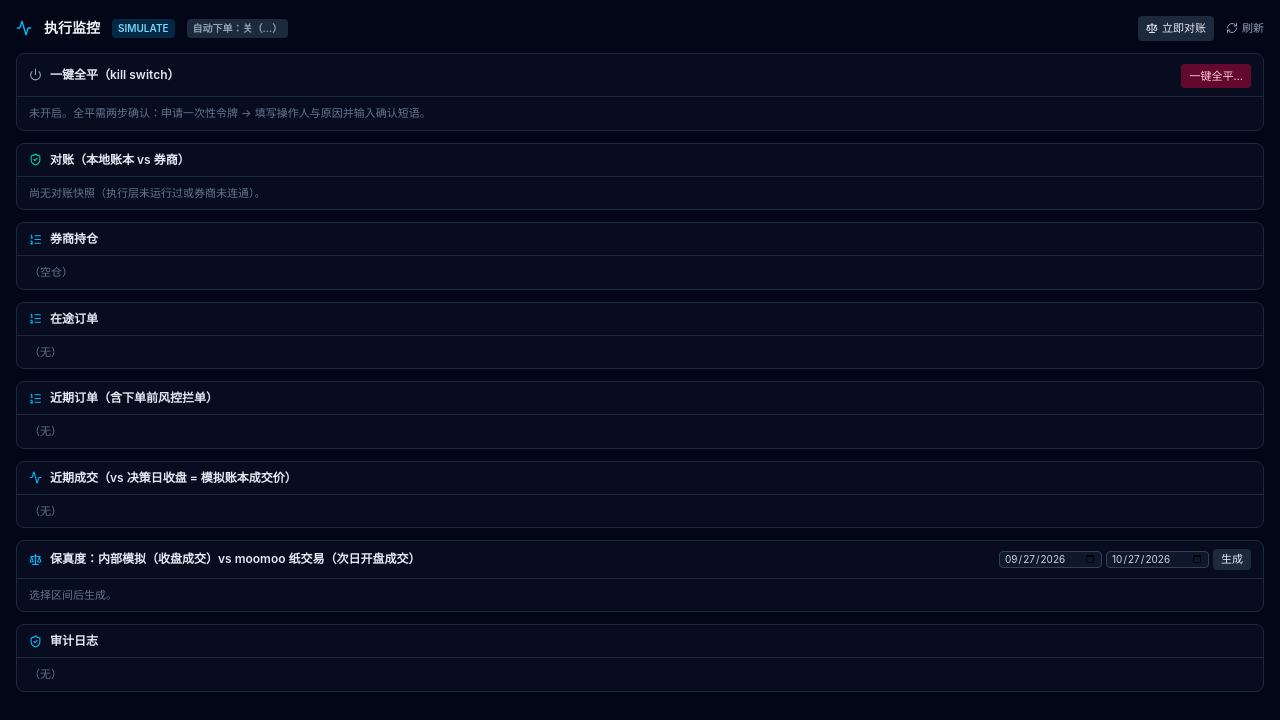
Scenario: ExecutionPanel — kill switch is two-step › opening the dialog only arms; confirm needs actor, reason and the phrase
Click the button "一键全平…" at point(1216, 76), box left=1182, top=64, right=1251, bottom=88
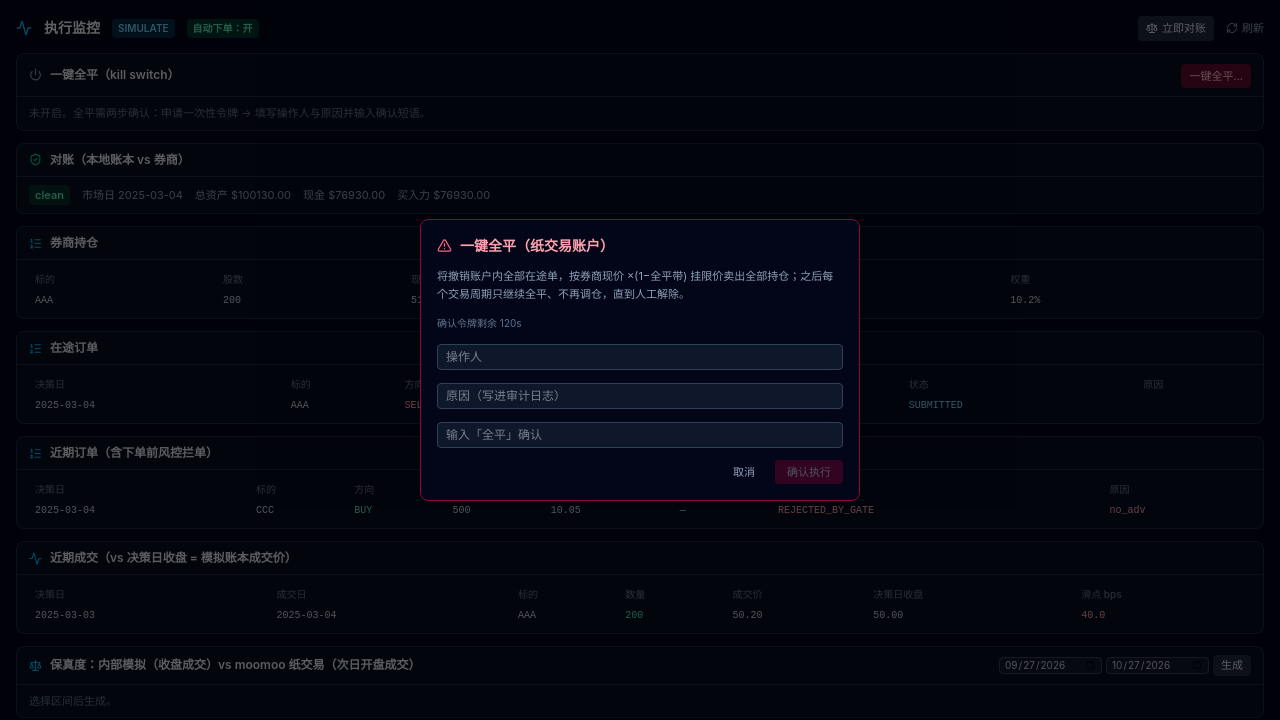
expect the text with test id "token-state" shows "剩余": met, box left=437, top=317, right=522, bottom=329
expect the button "确认执行" is disabled: met, box left=775, top=460, right=843, bottom=484
Type "kevin" into the field labelled "操作人" at point(640, 357), box left=437, top=344, right=843, bottom=370
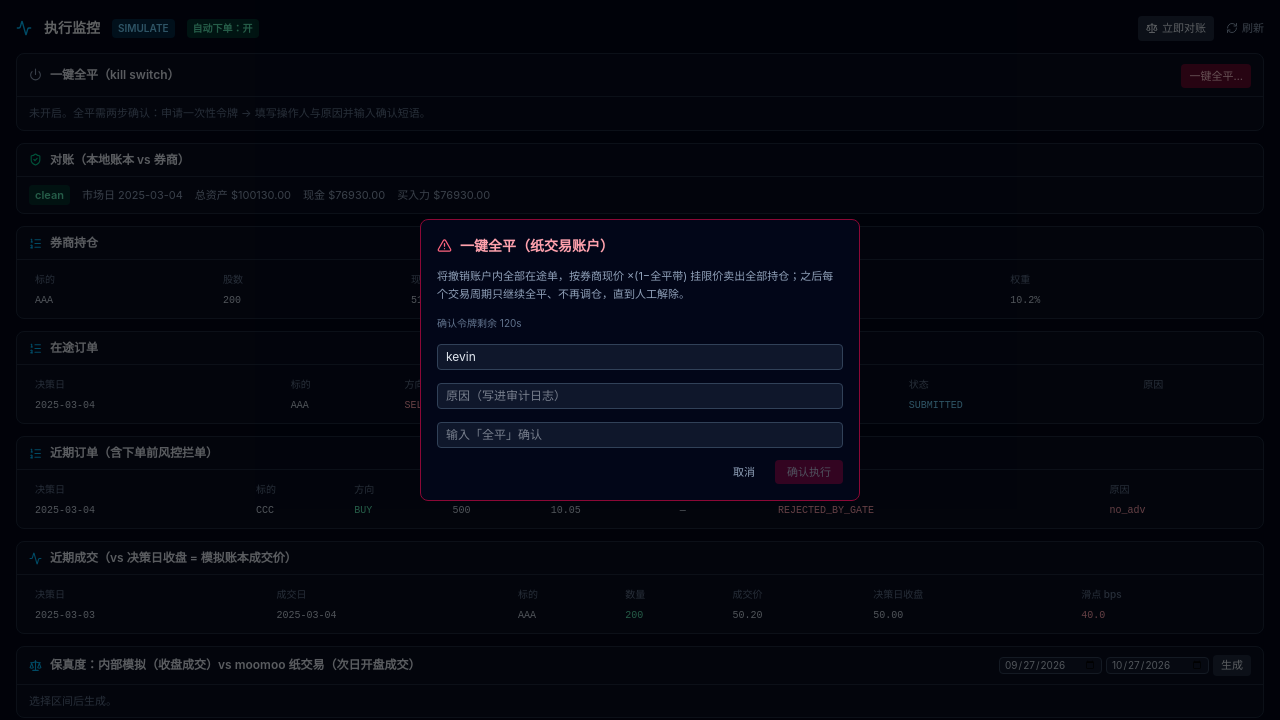
Type "drill" into the field labelled "原因" at point(640, 396), box left=437, top=383, right=843, bottom=409
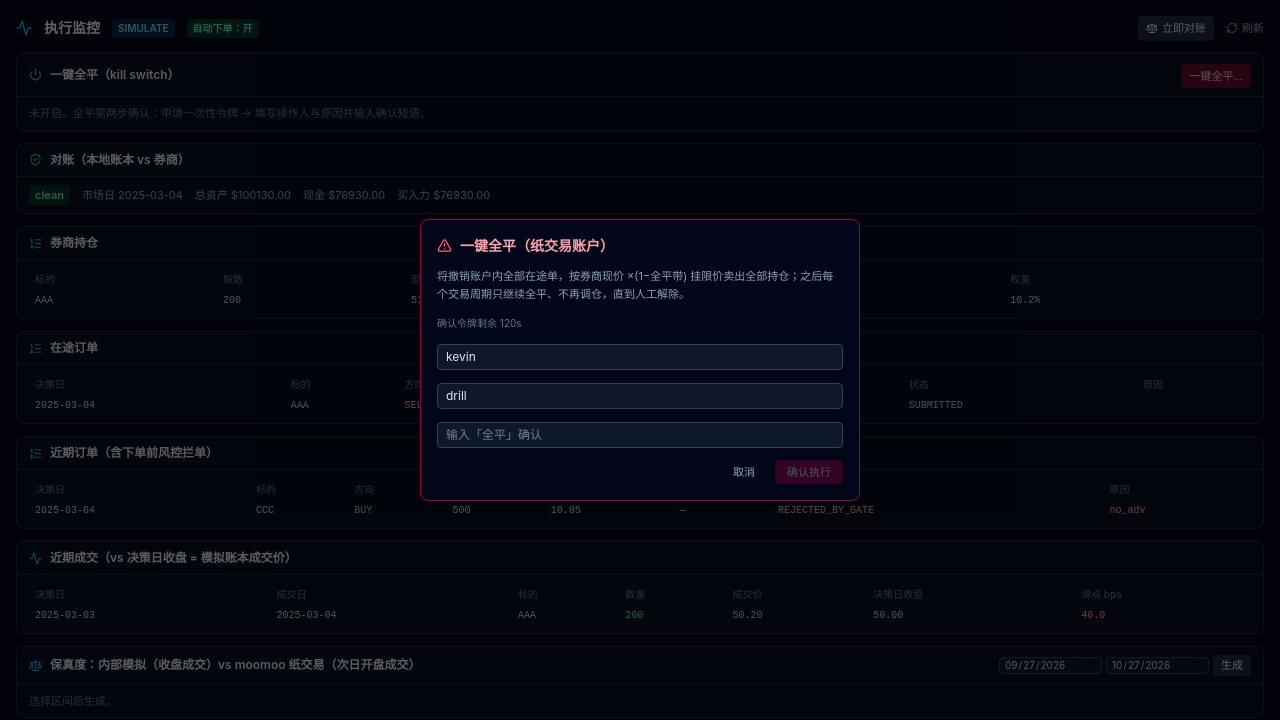
expect the button "确认执行" is disabled: met, box left=775, top=460, right=843, bottom=484
Type "解除" into the field named "确认短语" at point(640, 435), box left=437, top=422, right=843, bottom=448
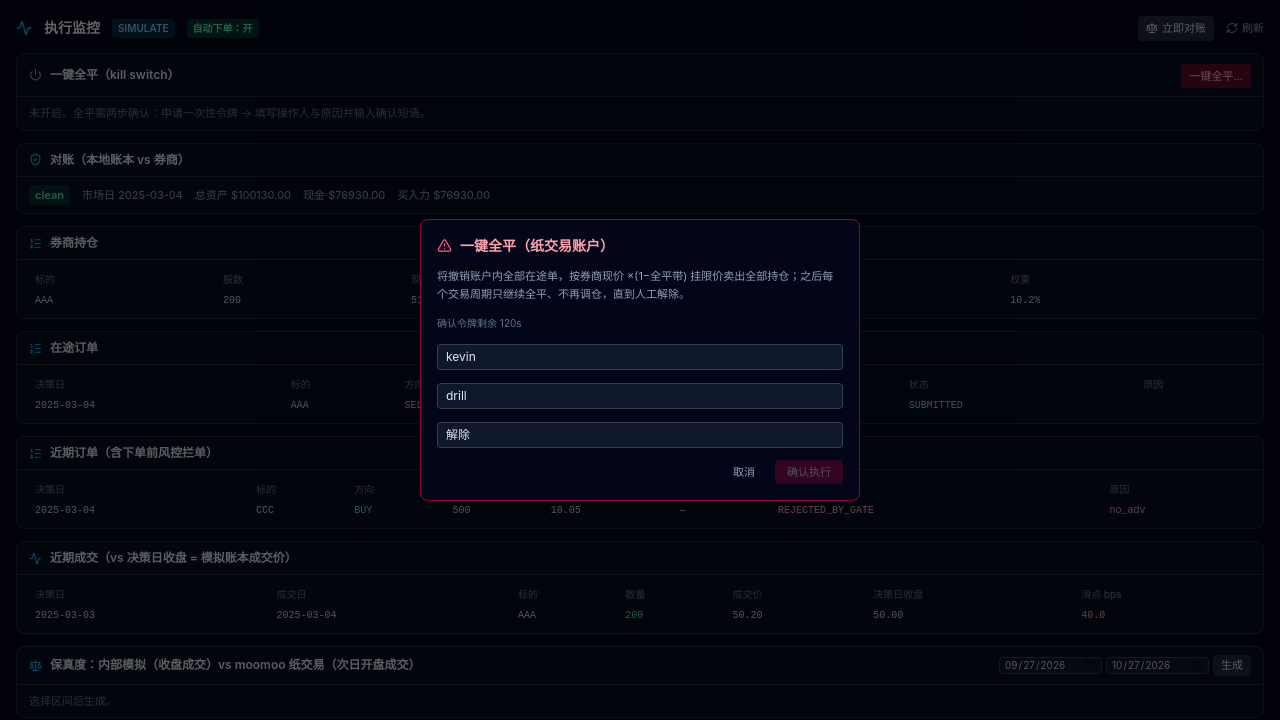
expect the button "确认执行" is disabled: met, box left=775, top=460, right=843, bottom=484
Replace the text in the field named "确认短语" with "全平" at point(640, 435), box left=437, top=422, right=843, bottom=448
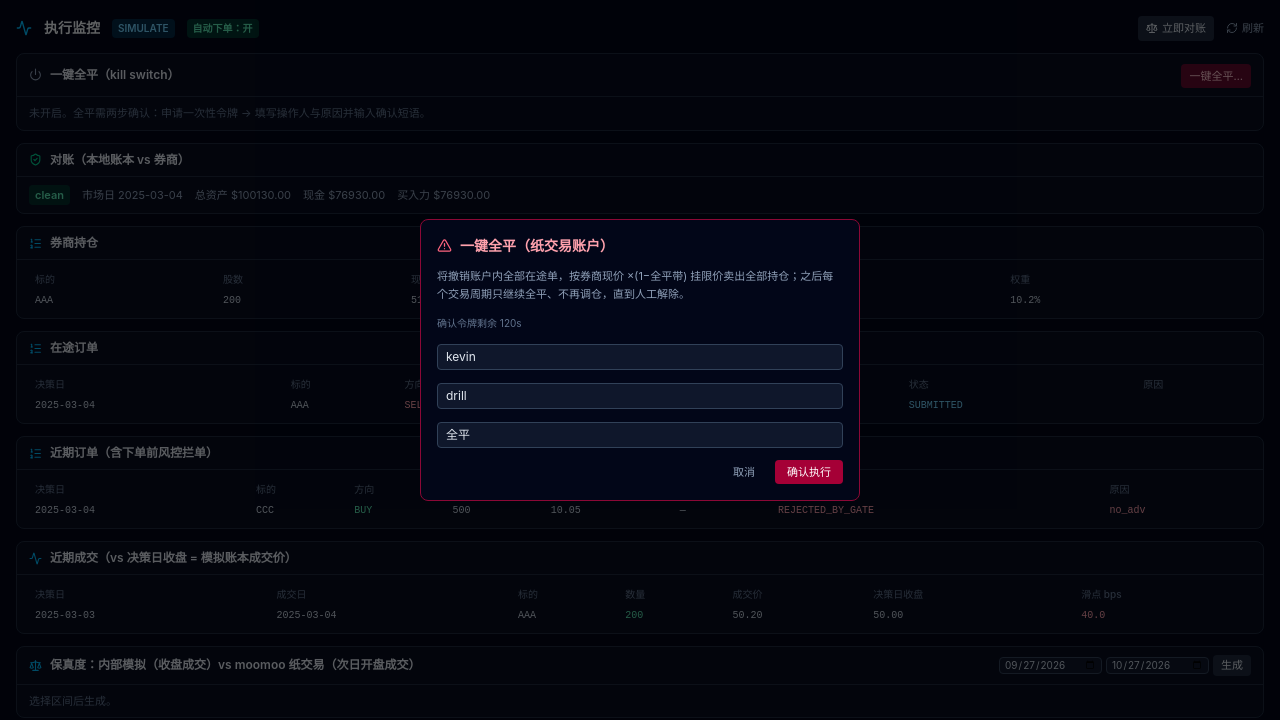
expect the button "确认执行" is enabled: met
Click the button "确认执行" at point(809, 472), box left=775, top=460, right=843, bottom=484
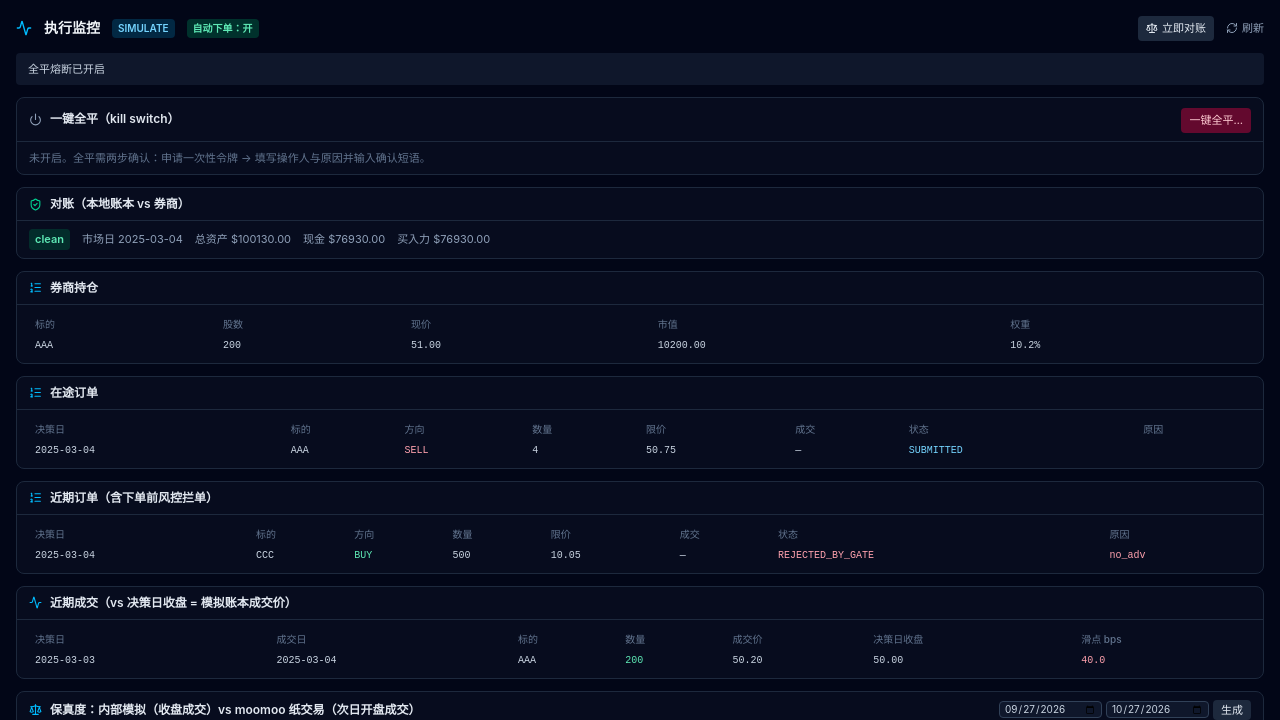
expect the text "全平熔断已开启" is shown: met, box left=16, top=52, right=1264, bottom=85
